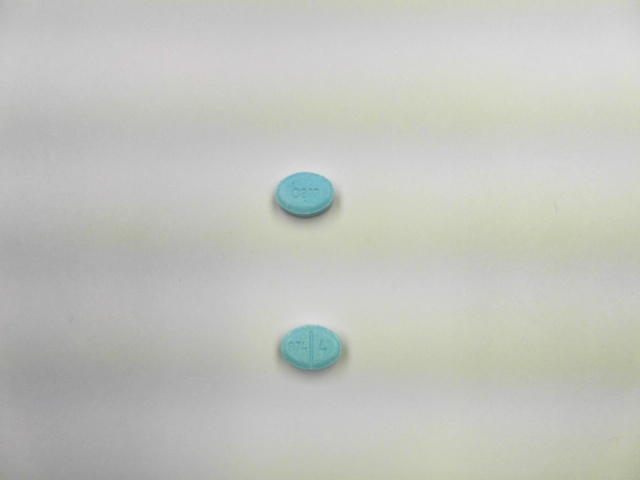4: (315, 338, 330, 355), (301, 340, 309, 354)
7: (295, 339, 301, 353)
8: (288, 339, 294, 353)
M: (306, 186, 321, 199)
a: (300, 186, 307, 199)
b: (289, 179, 302, 199)
|: (306, 325, 316, 373)
